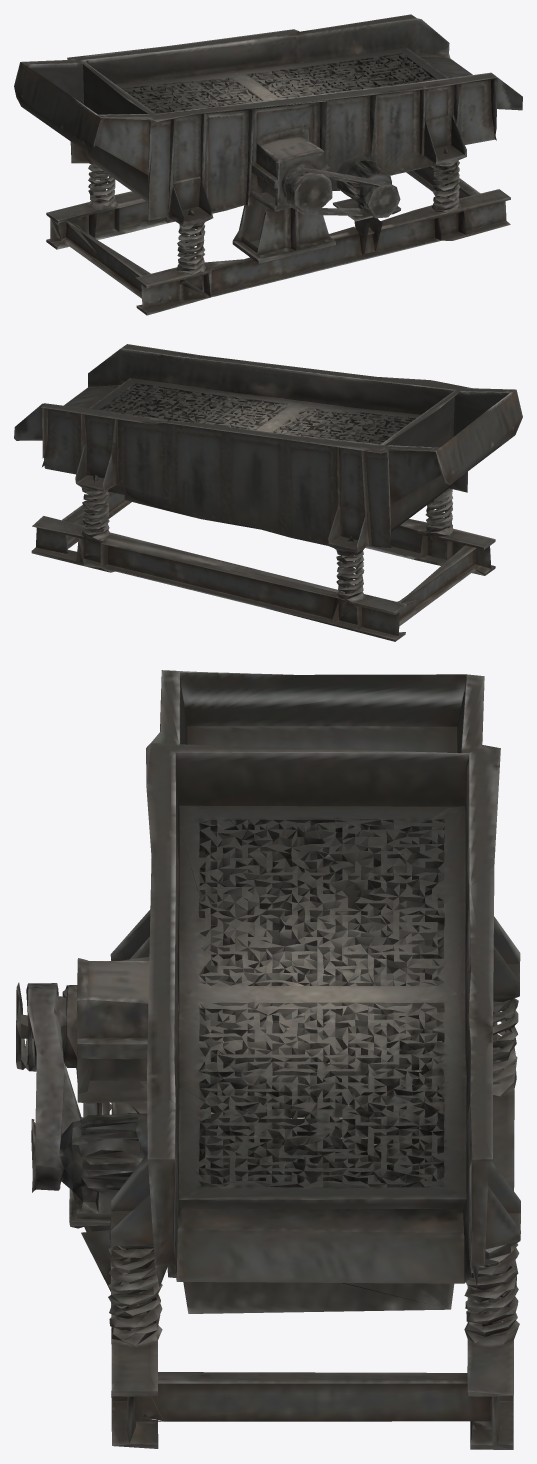
Rendered from p2_siebhaus_screen.glb.
3 views of the same model, one above another, from view 1: azimuth 30°, elevation 25°; view 2: azimuth 150°, elevation 25°; view 3: azimuth 270°, elevation 25° (orthographic). The views are drawn at different scales.
Parts seen in each view (by area): view 1: main; view 2: main; view 3: main.
Part boxes in pixels (x1=…): main: x1=14, y1=14, x2=522, y2=315; main: x1=14, y1=344, x2=522, y2=641; main: x1=16, y1=670, x2=520, y2=1449.
Bounding box in the file's own units: 3.69 × 1.6 × 1.87.
Materials: 1 (1 with a texture image).
